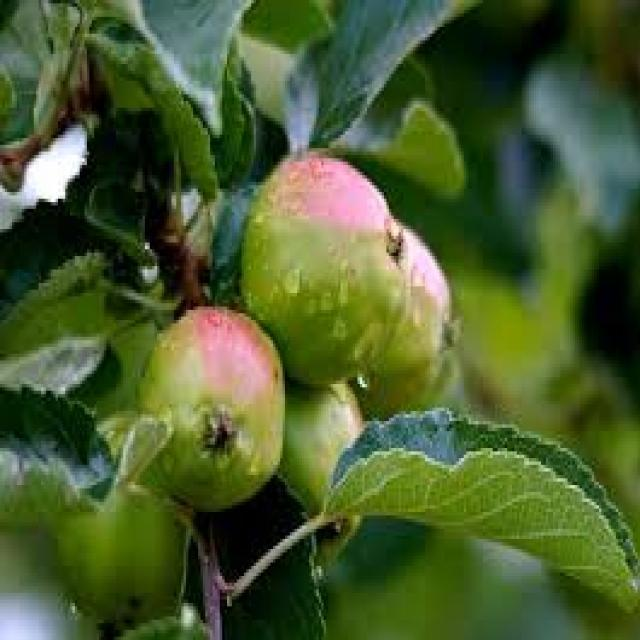Apple: (239, 158, 402, 388), (136, 308, 283, 504)
